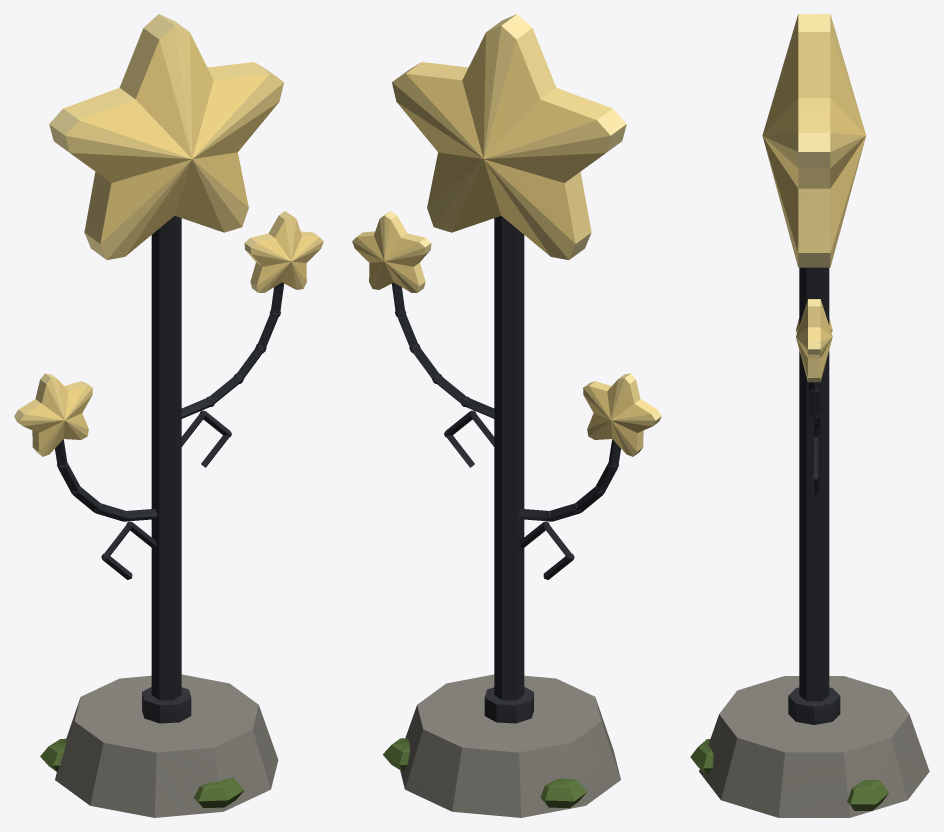
File: star_ornament_low.glb
3 renders of one model, left to right at view 1: azimuth 30°, elevation 25°; view 2: azimuth 150°, elevation 25°; view 3: azimuth 270°, elevation 25°, orthographic.
Bounding box in the file's own units: 0.6137 × 1.45 × 0.415.
